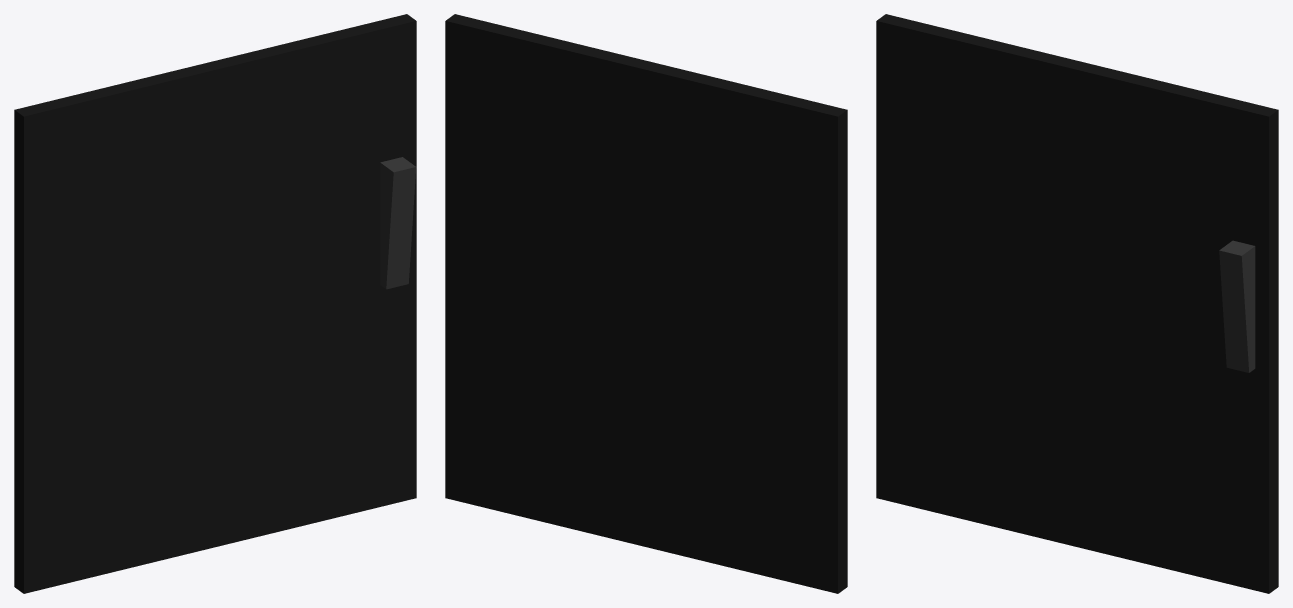
Rendered from Expositor_Glass_Door_2.obj.
3 renders of one model, left to right at view 1: azimuth 30°, elevation 25°; view 2: azimuth 150°, elevation 25°; view 3: azimuth 330°, elevation 25°, orthographic.
Visible parts, largest first — view 1: Expositor_Glass_Door_2; view 2: Expositor_Glass_Door_2; view 3: Expositor_Glass_Door_2.
Boxes of the visible parts, box(x1,y1,x2,y2) form: Expositor_Glass_Door_2: box(14, 14, 416, 593); Expositor_Glass_Door_2: box(445, 14, 847, 593); Expositor_Glass_Door_2: box(876, 14, 1278, 593).
Size of the model in its own units: 0.662 by 0.7689 by 0.067.
